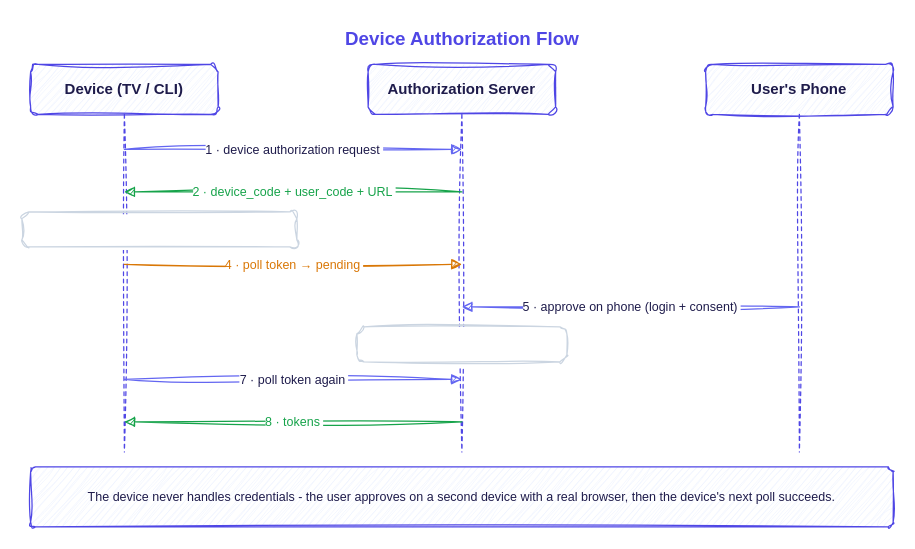
This 915x549 diagram has some shape labels left out. Here are the shapes that lost their labels. From the top down, the centre of each, then its label:
At pixel 159 229: "3 · show user_code + URL to user".
At pixel 461 344: "6 · device_code approved".
